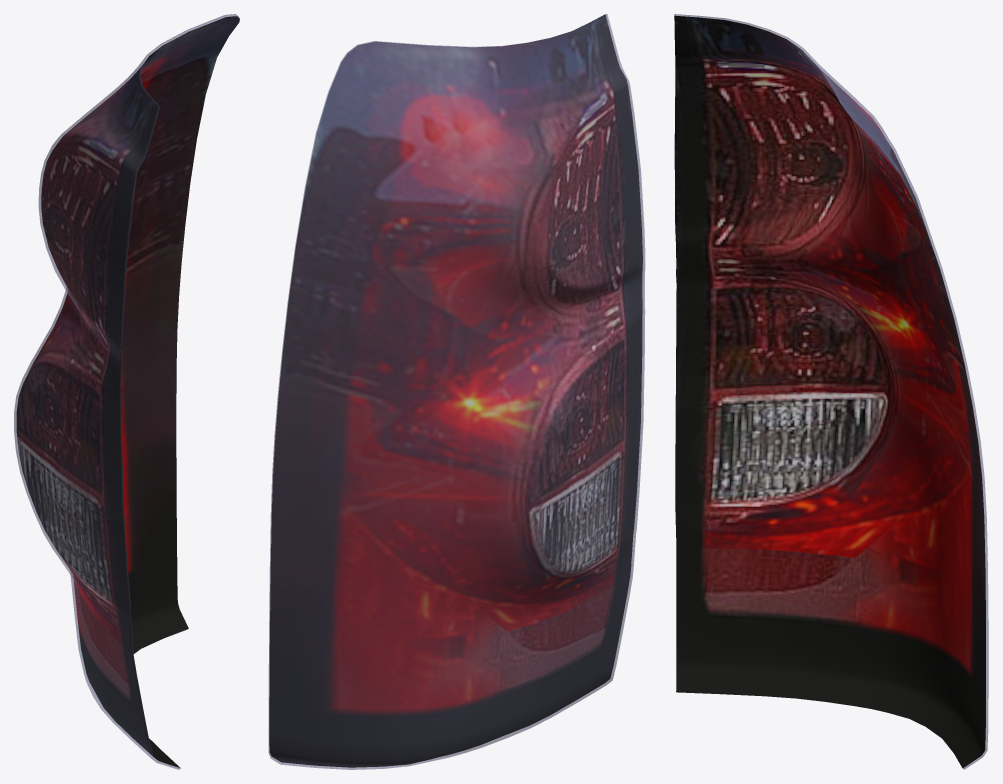
3 renders of one model, left to right at view 1: azimuth 30°, elevation 25°; view 2: azimuth 150°, elevation 25°; view 3: azimuth 270°, elevation 25°, orthographic. The views are drawn at different scales.
Visible parts, largest first — view 1: U803_3A_541C_L_U803_3A_541C_L_2_N, U803_3A_541C_L_1_DTaSI_U803_3A_541C_L; view 2: U803_3A_541C_L_1_DTaSI_U803_3A_541C_L, U803_3A_541C_L_U803_3A_541C_L_2_N; view 3: U803_3A_541C_L_U803_3A_541C_L_2_N, U803_3A_541C_L_1_DTaSI_U803_3A_541C_L.
Boxes of the visible parts, <box> form: U803_3A_541C_L_U803_3A_541C_L_2_N: <box>16,16,239,768</box>; U803_3A_541C_L_1_DTaSI_U803_3A_541C_L: <box>14,14,238,769</box>; U803_3A_541C_L_1_DTaSI_U803_3A_541C_L: <box>268,14,645,769</box>; U803_3A_541C_L_U803_3A_541C_L_2_N: <box>269,14,642,767</box>; U803_3A_541C_L_U803_3A_541C_L_2_N: <box>674,15,985,768</box>; U803_3A_541C_L_1_DTaSI_U803_3A_541C_L: <box>674,14,988,769</box>.
Size of the model in its own units: 12.66 by 37.22 by 15.8.
